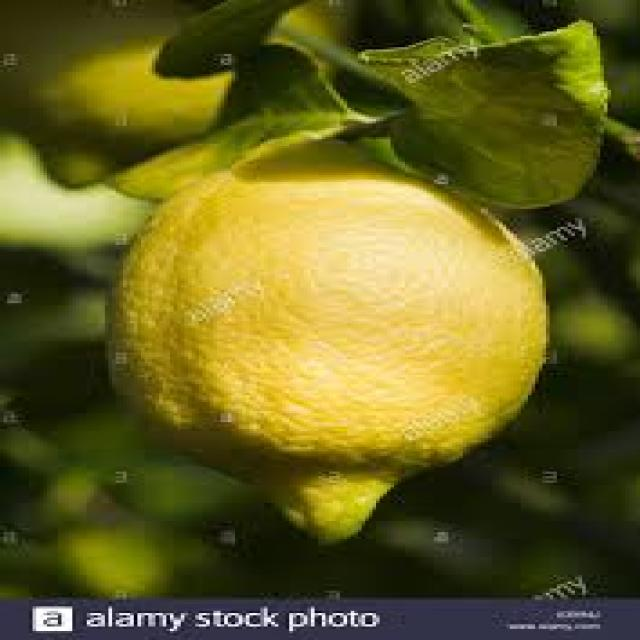Lemon: (106, 122, 554, 540)
